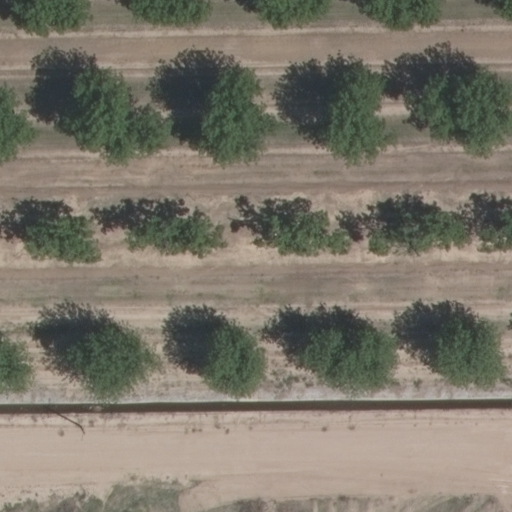DT: (73, 419, 96, 440)
